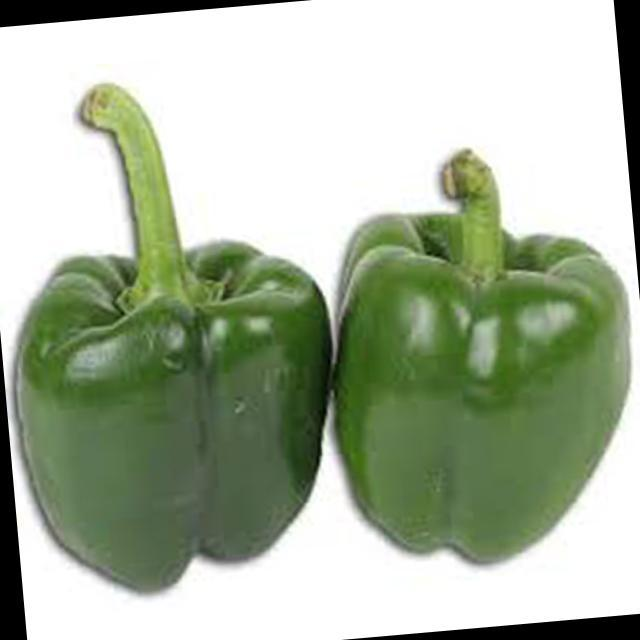Capsicum: (17, 233, 331, 594), (333, 204, 632, 568)
